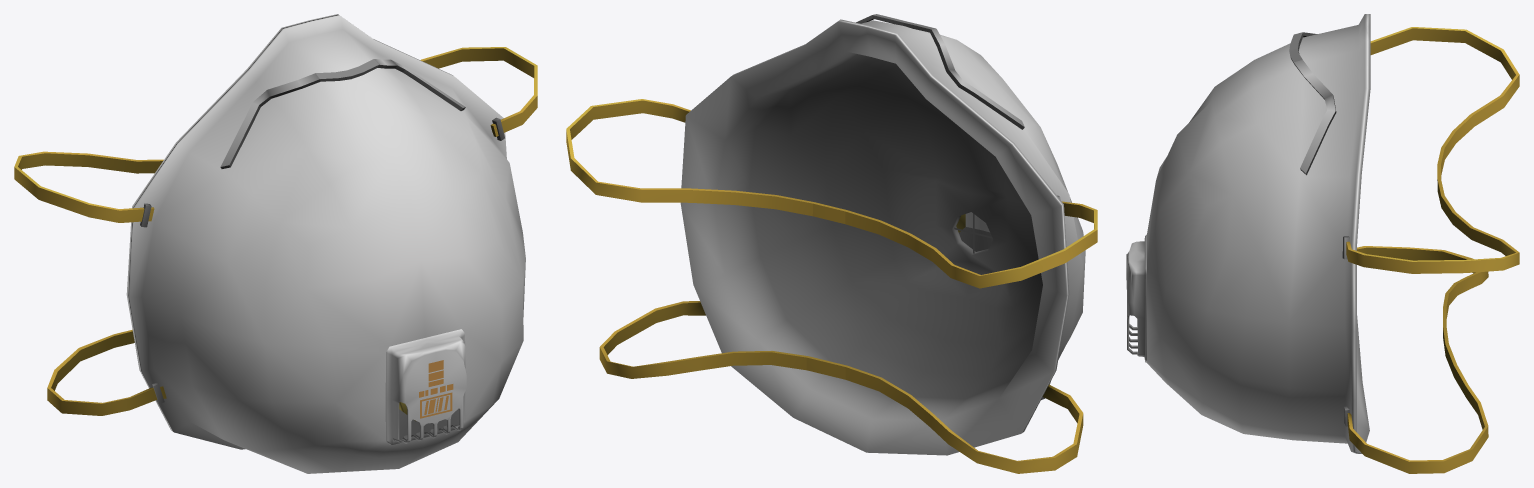
Rendered from human-household-items-respirator-mask_v1.fbx.
3 renders of one model, left to right at view 1: azimuth 30°, elevation 25°; view 2: azimuth 150°, elevation 25°; view 3: azimuth 270°, elevation 25°, orthographic. The views are drawn at different scales.
Visible parts, largest first — view 1: Respirator Mask; view 2: Respirator Mask; view 3: Respirator Mask.
Part boxes in pixels (bbox=[...]): Respirator Mask: bbox=[14, 14, 537, 473]; Respirator Mask: bbox=[566, 14, 1097, 473]; Respirator Mask: bbox=[1126, 14, 1519, 473].
Bounding box in the file's own units: 0.15 × 0.1203 × 0.1061.
